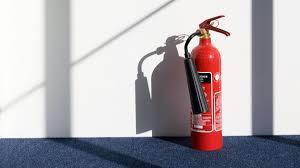floor-kept: (174, 9, 235, 156)
